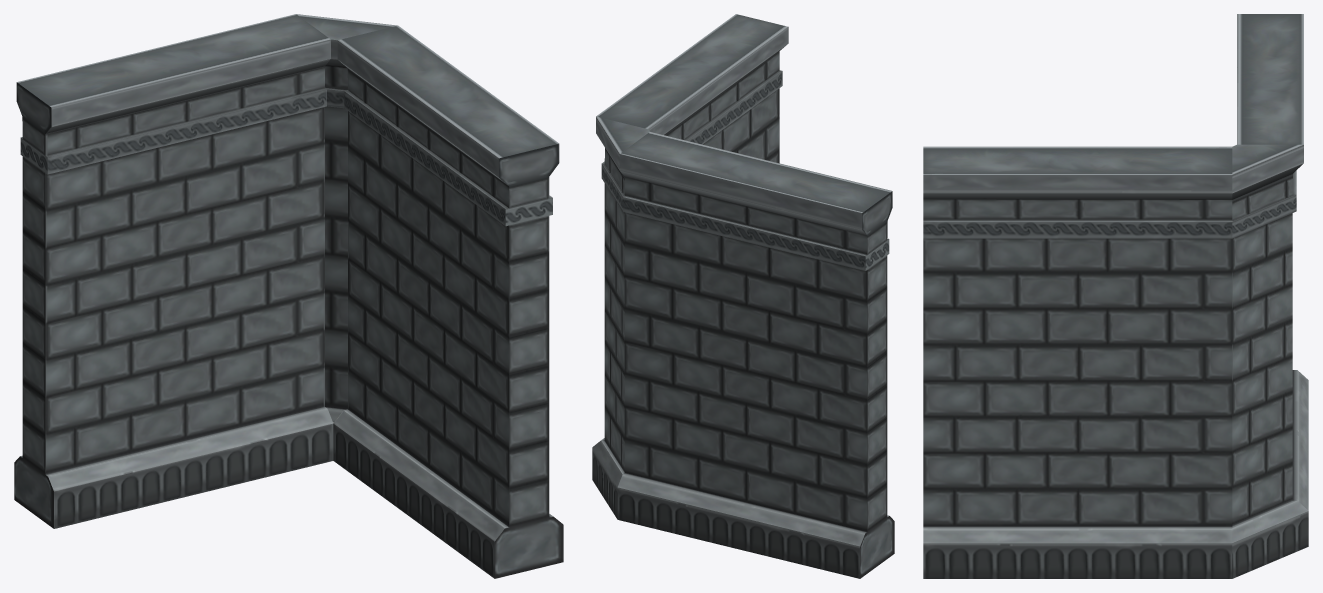
File: wallCornerPiece.fbx
3 views of the same model, side by side, from view 1: azimuth 30°, elevation 25°; view 2: azimuth 150°, elevation 25°; view 3: azimuth 270°, elevation 25° (orthographic). The views are drawn at different scales.
Parts seen in each view (by area): view 1: wallCornerPiece; view 2: wallCornerPiece; view 3: wallCornerPiece.
Boxes of the visible parts, x1=… form: wallCornerPiece: x1=14, y1=14, x2=563, y2=578; wallCornerPiece: x1=592, y1=14, x2=894, y2=578; wallCornerPiece: x1=923, y1=14, x2=1308, y2=578.
Bounding box in the file's own units: 2.49 × 2.87 × 2.49.
Materials: 1 (1 with a texture image).
